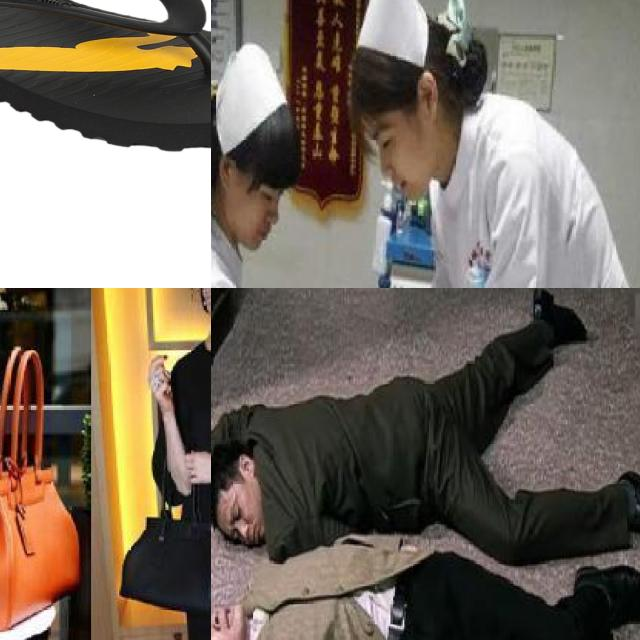Sandals: (0, 0, 211, 153)
face_nomask: (211, 157, 301, 260), (355, 102, 438, 196), (218, 486, 275, 552), (211, 593, 250, 640)
hand_noglove: (148, 355, 174, 409), (184, 447, 211, 485)
head_nohelmet: (211, 63, 306, 185), (342, 26, 422, 120)
person: (324, 0, 640, 288), (211, 383, 640, 566), (211, 561, 640, 640), (131, 288, 211, 640), (211, 42, 319, 288)
shoes: (570, 562, 640, 623), (525, 288, 593, 348), (610, 460, 640, 560)
